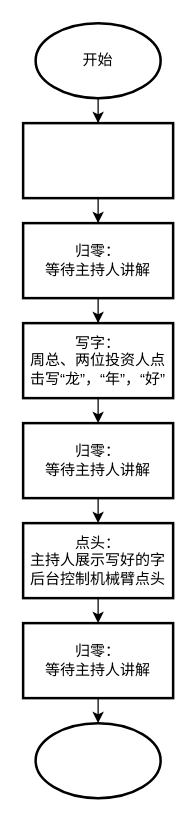
This 195x820 diagram has some shape labels left out. The centre of each missing label's shape, as x and y in pixels:
"开场： 后台控制三台一起开始跳舞" belongs at (97,160).
"结束" belongs at (97,760).
